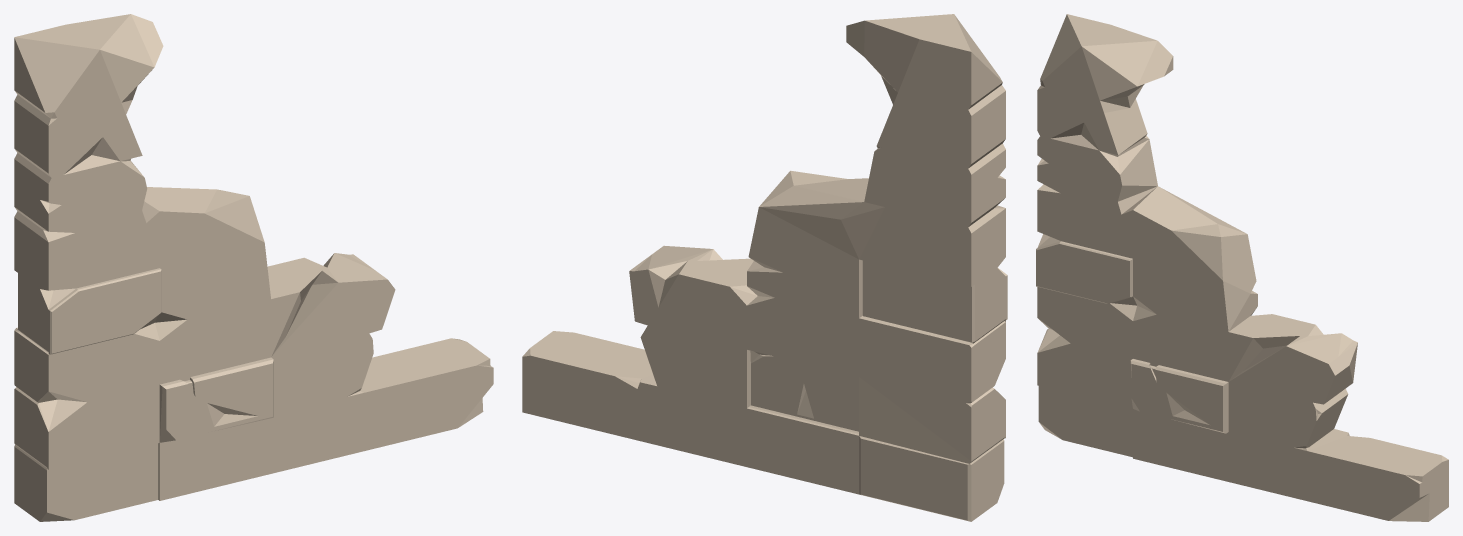
The model's file is Broken_Wall_001.fbx.
3 renders of one model, left to right at view 1: azimuth 30°, elevation 25°; view 2: azimuth 150°, elevation 25°; view 3: azimuth 330°, elevation 25°, orthographic. The views are drawn at different scales.
Visible parts, largest first — view 1: Broken_Wall_001; view 2: Broken_Wall_001; view 3: Broken_Wall_001.
Boxes of the visible parts, bbox=[...] form: Broken_Wall_001: bbox=[14, 14, 493, 521]; Broken_Wall_001: bbox=[522, 14, 1007, 521]; Broken_Wall_001: bbox=[1036, 14, 1448, 521].
Size of the model in its own units: 3 by 3 by 0.4587.
